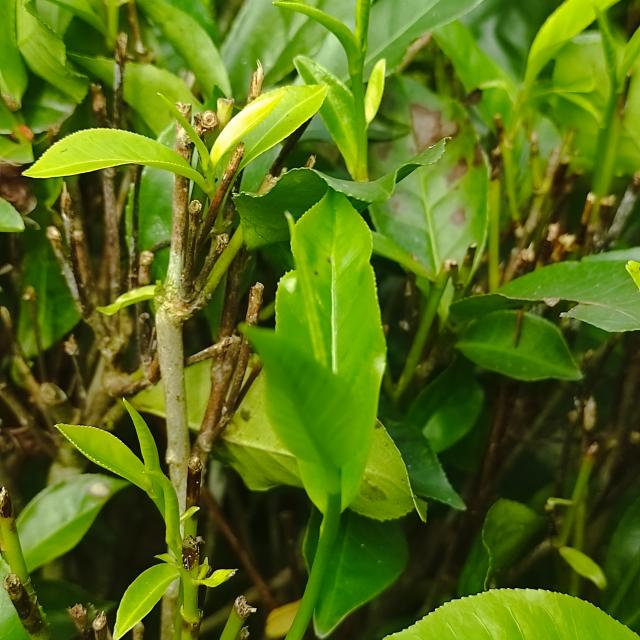unopened_leaf: (278, 203, 338, 374), (269, 0, 363, 90), (150, 86, 221, 185), (115, 392, 170, 517), (138, 469, 192, 572), (587, 0, 624, 109)
